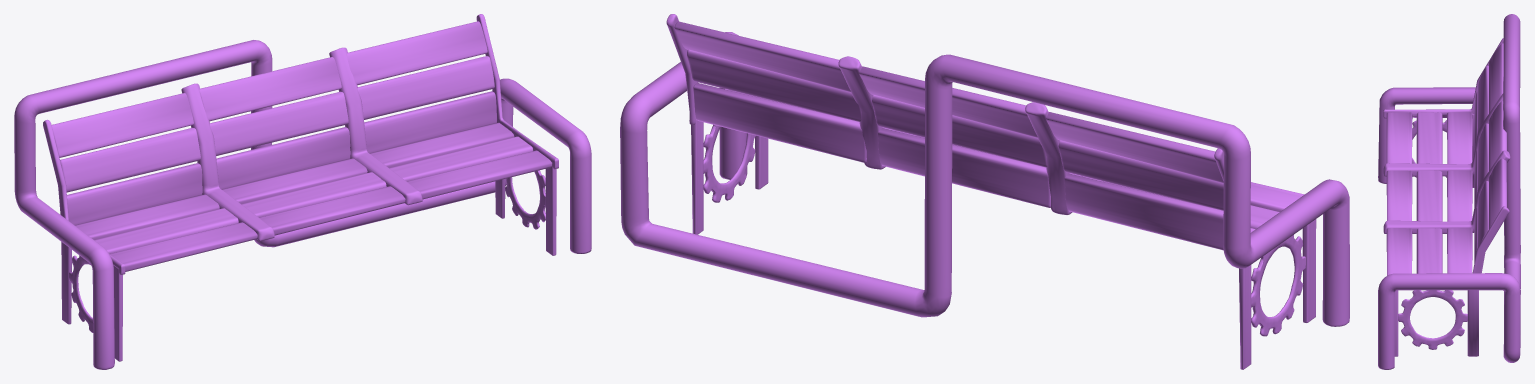
Rendered from Bench_LOW_Retop.fbx.
3 views of the same model, side by side, from view 1: azimuth 30°, elevation 25°; view 2: azimuth 150°, elevation 25°; view 3: azimuth 270°, elevation 25° (orthographic). The views are drawn at different scales.
Parts seen in each view (by area): view 1: ArmRest_LOW, PlankBent2_LOW001, PlankBent2_LOW003, PlankBent1_LOW, PlankBent2_LOW005, PlankBent1_LOW001, PlankBent1_LOW002, PlankBent2_LOW, PlankBent2_LOW002, PlankBent2_LOW004, Plank2_LOW, Plank2_LOW002 (+16 smaller); view 2: ArmRest_LOW, PlankBent2_LOW004, PlankBent2_LOW, PlankBent2_LOW002, PlankBent1_LOW002, PlankBent1_LOW, PlankBent2_LOW001, PlankBent2_LOW005, PlankBent1_LOW001, PlankBent2_LOW003, Gear_LOW, ConnectionMid_LOW (+8 smaller); view 3: ArmRest_LOW, Gear_LOW001, Plank1_LOW, Plank1_LOW001, Plank2_LOW001, Plank2_LOW, Plank2_LOW003, Plank2_LOW002, Plank1_LOW002, Plank2_LOW004, Plank2_LOW005, ConnectionMid_LOW001 (+16 smaller).
Part boxes in pixels (<box>): ArmRest_LOW: <box>14,40,591,369</box>; PlankBent2_LOW001: <box>51,93,193,157</box>; PlankBent2_LOW003: <box>199,57,341,121</box>; PlankBent1_LOW: <box>60,127,200,192</box>; PlankBent2_LOW005: <box>347,21,487,85</box>; PlankBent1_LOW001: <box>210,91,348,155</box>; PlankBent1_LOW002: <box>357,56,494,119</box>; PlankBent2_LOW: <box>67,163,202,225</box>; PlankBent2_LOW002: <box>216,127,350,189</box>; PlankBent2_LOW004: <box>364,91,496,153</box>; Plank2_LOW: <box>109,222,257,271</box>; Plank2_LOW002: <box>259,186,405,235</box>; ArmRest_LOW: <box>620,32,1349,326</box>; PlankBent2_LOW004: <box>693,83,866,162</box>; PlankBent2_LOW: <box>1064,173,1223,250</box>; PlankBent2_LOW002: <box>878,128,1050,207</box>; PlankBent1_LOW002: <box>687,49,861,121</box>; PlankBent1_LOW: <box>1058,140,1223,210</box>; PlankBent2_LOW001: <box>1045,112,1223,182</box>; PlankBent2_LOW005: <box>674,21,850,92</box>; PlankBent1_LOW001: <box>872,95,1047,167</box>; PlankBent2_LOW003: <box>859,66,1037,137</box>; Gear_LOW: <box>1251,235,1305,336</box>; ConnectionMid_LOW: <box>1025,102,1102,214</box>; ArmRest_LOW: <box>1378,14,1520,369</box>; Gear_LOW001: <box>1398,290,1467,349</box>; Plank1_LOW: <box>1416,112,1442,163</box>; Plank1_LOW001: <box>1416,170,1442,221</box>; Plank2_LOW001: <box>1447,112,1472,164</box>; Plank2_LOW: <box>1386,112,1412,163</box>; Plank2_LOW003: <box>1447,170,1472,221</box>; Plank2_LOW002: <box>1386,170,1412,220</box>; Plank1_LOW002: <box>1416,228,1442,273</box>; Plank2_LOW004: <box>1386,228,1412,275</box>; Plank2_LOW005: <box>1447,228,1472,273</box>; ConnectionMid_LOW001: <box>1383,150,1510,233</box>.
Bounding box in the file's own units: 209 × 85.28 × 65.37.
